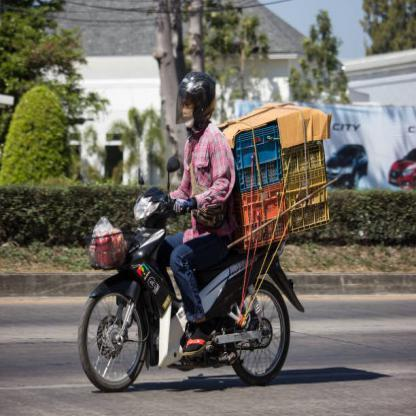Motorcycle: (78, 171, 294, 392)
